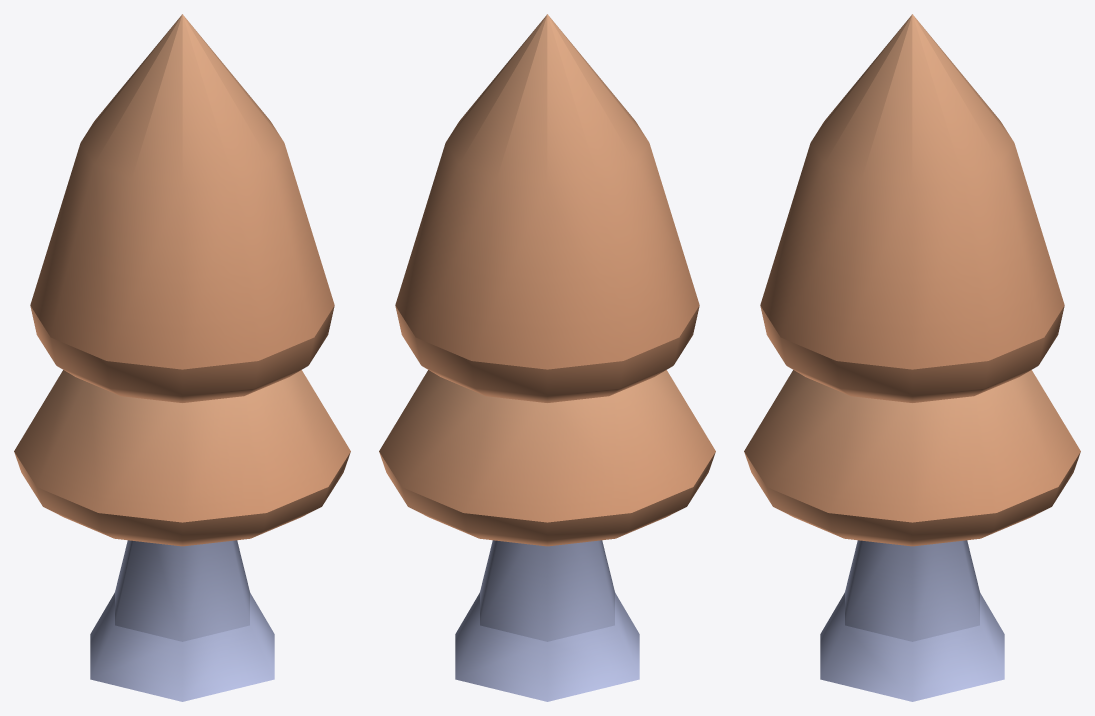
Rendered from tree-pine-small.glb.
3 renders of one model, left to right at view 1: azimuth 30°, elevation 25°; view 2: azimuth 150°, elevation 25°; view 3: azimuth 270°, elevation 25°, orthographic.
Parts seen in each view (by area): view 1: tree-pine-small; view 2: tree-pine-small; view 3: tree-pine-small.
Boxes of the visible parts, bbox=[...] form: tree-pine-small: bbox=[14, 14, 350, 701]; tree-pine-small: bbox=[379, 14, 715, 701]; tree-pine-small: bbox=[744, 14, 1080, 701].
Size of the model in its own units: 0.6639 by 1.4 by 0.6639.
